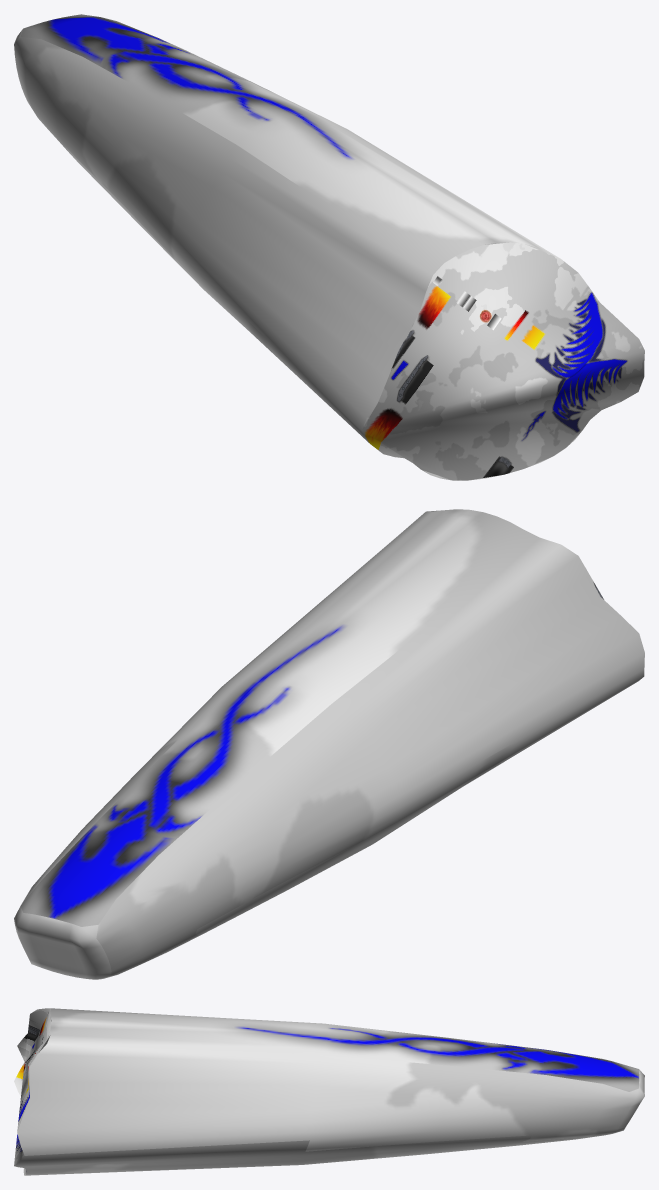
Rendered from FighterDestructionPart1.fbx.
The picture shows the model from 3 angles, top to bottom: view 1: azimuth 30°, elevation 25°; view 2: azimuth 150°, elevation 25°; view 3: azimuth 270°, elevation 25°; orthographic projection. The views are drawn at different scales.
Parts seen in each view (by area): view 1: polySurface1; view 2: polySurface1; view 3: polySurface1.
Boxes of the visible parts, x1=… form: polySurface1: x1=14, y1=14, x2=644, y2=480; polySurface1: x1=14, y1=509, x2=644, y2=979; polySurface1: x1=14, y1=1008, x2=644, y2=1175.
Bounding box in the file's own units: 2.63 × 1.91 × 7.45.
Materials: 1 (1 with a texture image).
